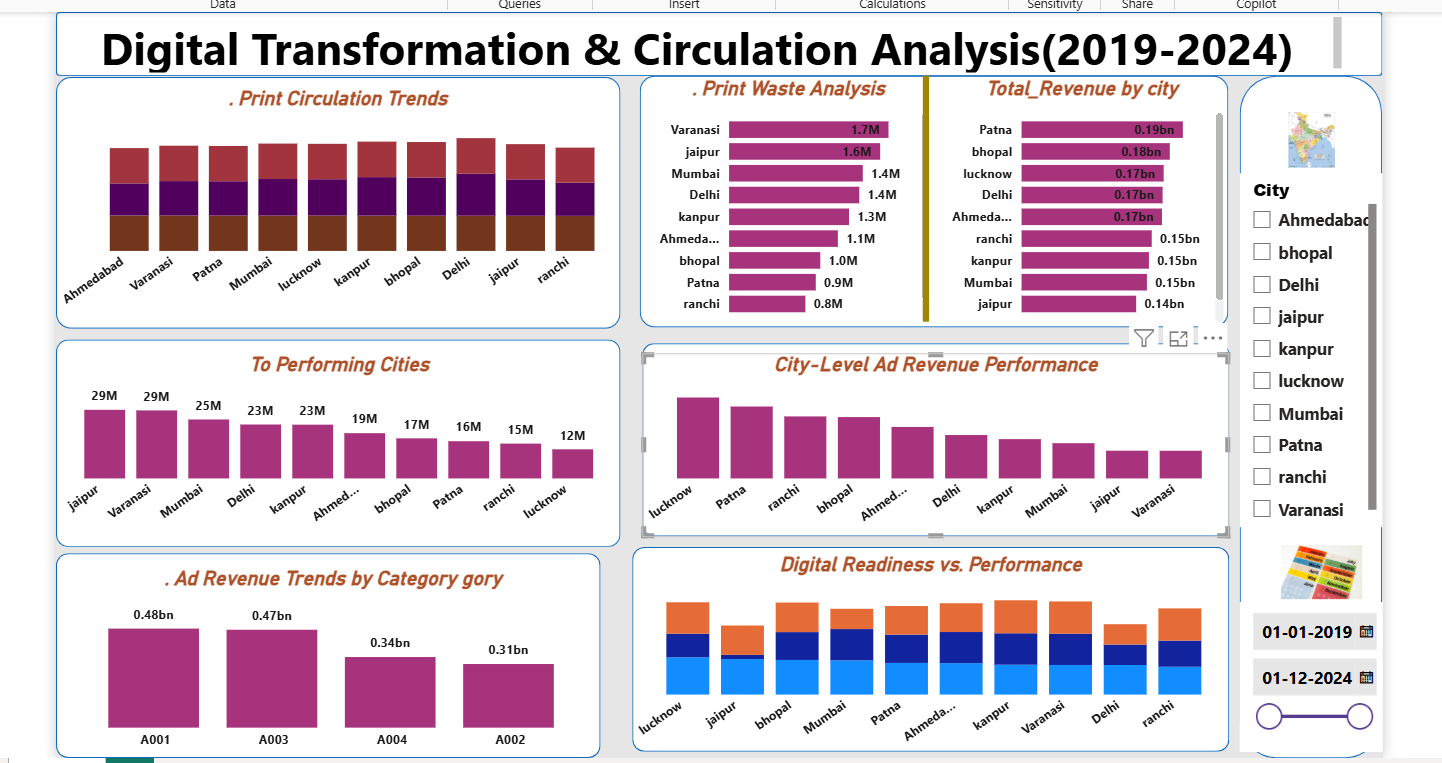

What the dashboard file says about the page in this screenshot:
{"tool":"powerbi","page":{"name":"Page 2","canvas":[1280,720],"ordinal":0},"visuals":[{"type":"shape","box":[0,63.1,544.8,242.9],"z":0},{"type":"shape","box":[0,315.6,544.8,200.3],"z":1000},{"type":"shape","box":[555.7,516,576.3,197.6],"z":2000},{"type":"shape","box":[1143.1,61.7,137.2,658.7],"z":3000},{"type":"shape","box":[564,61.7,568.1,242.9],"z":4000},{"type":"shape","box":[565.4,319.7,566.7,186.6],"z":5000},{"type":"shape","box":[0,0,1280.3,61.7],"z":6000},{"type":"textbox","box":[0,0,1246,63.1],"z":7000},{"type":"shape","box":[0,522.8,525.6,197.6],"z":8000},{"type":"columnChart","title":".  Print Circulation Trends ","fields":{"Category":["in (2).city"],"Y":["print sales.curculation_yoy","print sales.copies_yoy","print sales.sold_YOY"]},"box":[0,72.7,544.8,226.4],"z":9000},{"type":"clusteredColumnChart","title":"To Performing Cities ","fields":{"Category":["in (2).city"],"Y":["print sales.Total Circulation"]},"box":[2.7,329.3,542,177],"z":10000},{"type":"columnChart","title":". Ad Revenue Trends by Category gory ","fields":{"Category":["fact_ad_revenue.ad_category"],"Y":["Sum(fact_ad_revenue.ad_revenue)"]},"box":[0,535.2,535.2,185.2],"z":11000},{"type":"columnChart","title":"City-Level Ad Revenue Performance ","fields":{"Category":["in (2).city"],"Y":["fact_ad_revenue.Ad Revenue per Copy"]},"box":[565.4,329.3,566.7,177],"z":12000},{"type":"columnChart","title":" Digital Readiness vs. Performance ","fields":{"Category":["in (2).city"],"Y":["Sum(fact_city_readiness.literacy_rate)","Sum(fact_city_readiness.internet_penetration)","Sum(fact_city_readiness.smartphone_penetration)"]},"box":[555.7,522.8,576.3,197.6],"z":13000},{"type":"barChart","title":". Print Waste Analysis ","fields":{"Category":["in (2).city"],"Y":["print sales.total copy"]},"box":[565.4,63.1,282.7,241.5],"z":14000},{"type":"barChart","fields":{"Category":["in (2).city"],"Y":["print sales.Total_Revenue"]},"box":[848,63.1,284,241.5],"z":15000},{"type":"slicer","fields":{"Values":["Date.Date"]},"box":[1143.1,569.5,137.2,144.1],"z":16000},{"type":"slicer","fields":{"Values":["in (2).city"]},"box":[1143.1,155.1,137.2,341.7],"z":17000},{"type":"shape","box":[830.2,61.7,19.2,237.4],"z":18000},{"type":"image","box":[1177.4,91.9,68.6,63.1],"z":19000},{"type":"image","box":[1177.4,506.3,87.8,67.2],"z":20000}]}

Visuals, with their boxes on the page's 1280x720 design canvas (x1, y1, x2, y2). These are canvas units, not pixel positions in the 1442x763 screenshot, which may show the page scaled, cropped or inside an application window:
shape: 0:63:545:306
shape: 0:316:545:516
shape: 556:516:1132:714
shape: 1143:62:1280:720
shape: 564:62:1132:305
shape: 565:320:1132:506
shape: 0:0:1280:62
textbox: 0:0:1246:63
shape: 0:523:526:720
".  Print Circulation Trends " columnChart: 0:73:545:299
"To Performing Cities " clusteredColumnChart: 3:329:545:506
". Ad Revenue Trends by Category gory " columnChart: 0:535:535:720
"City-Level Ad Revenue Performance " columnChart: 565:329:1132:506
" Digital Readiness vs. Performance " columnChart: 556:523:1132:720
". Print Waste Analysis " barChart: 565:63:848:305
barChart - in (2).city x print sales.Total_Revenue: 848:63:1132:305
slicer - Date.Date: 1143:570:1280:714
slicer - in (2).city: 1143:155:1280:497
shape: 830:62:849:299
image: 1177:92:1246:155
image: 1177:506:1265:574
